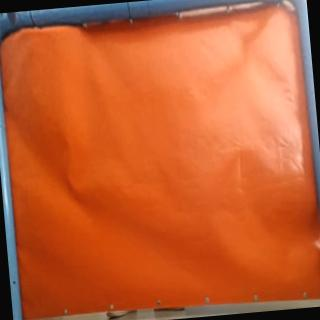Hit-hRxx: (16, 28, 32, 38)
